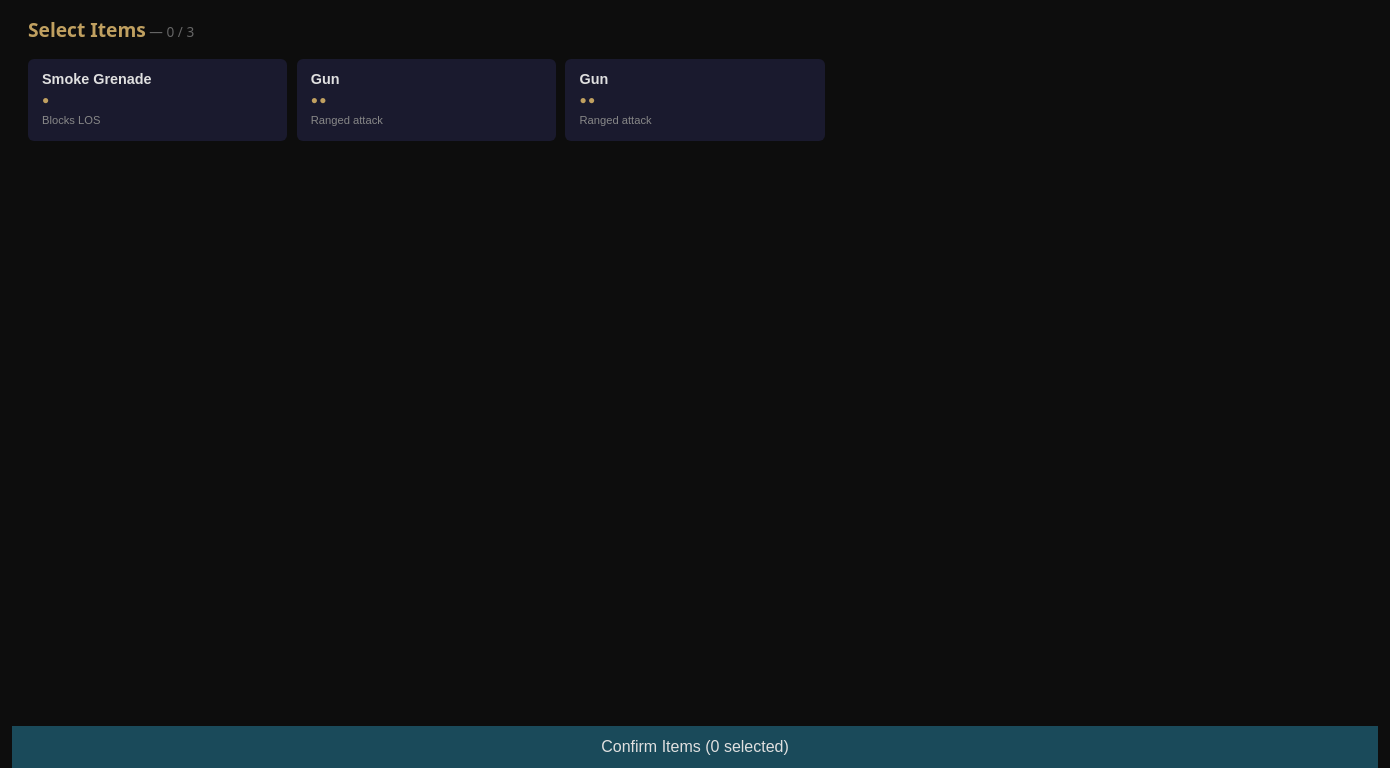
Test: SetupView › deselecting an item decrements the count
What coordinates should you click on to do the following:
click the button "Smoke Grenade ● Blocks LOS"
I would click on:
 (158, 100)
Its box is [28,59,287,141].
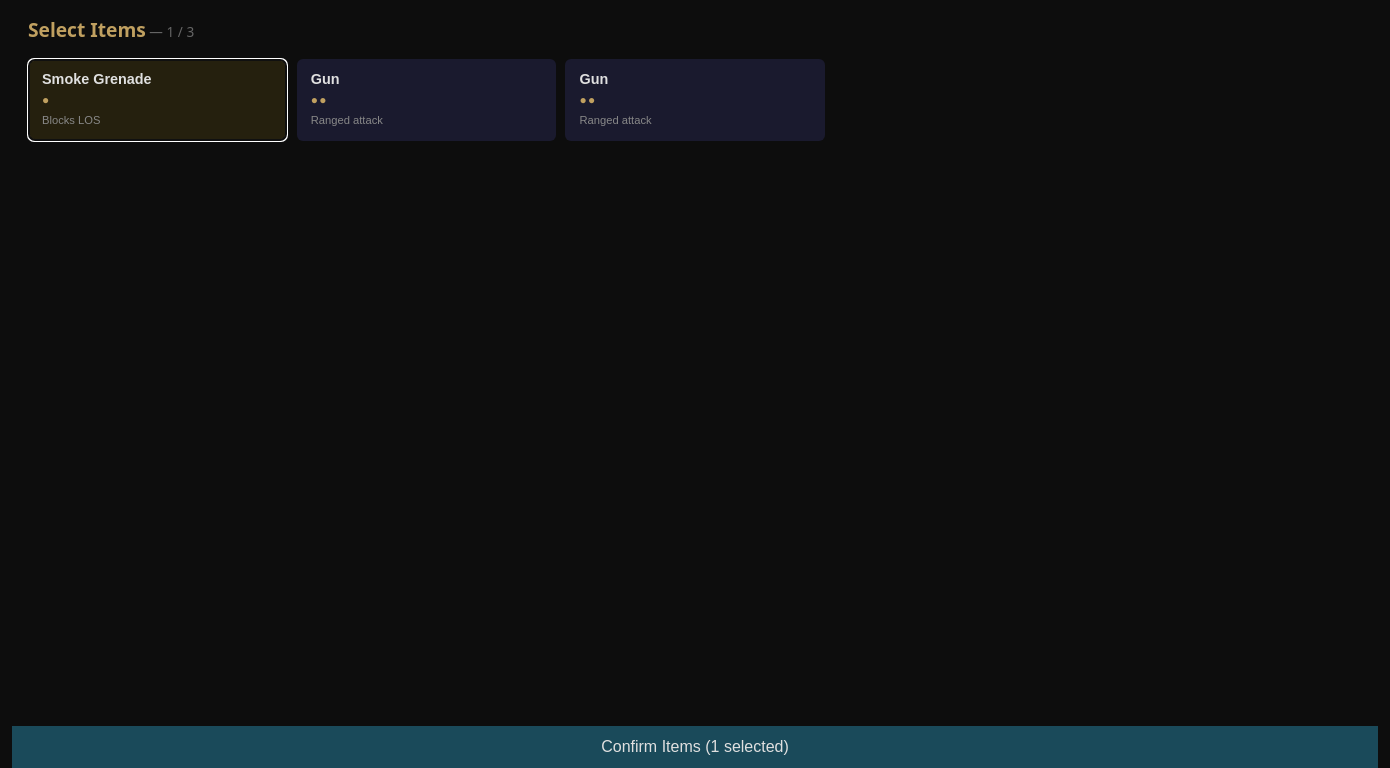
Result: the text "— 1 / 3" is shown at [146,22,194,41]
What coordinates should you click on to do the following:
click the button "Smoke Grenade ● Blocks LOS"
I would click on:
 (158, 100)
Its box is [28,59,287,141].
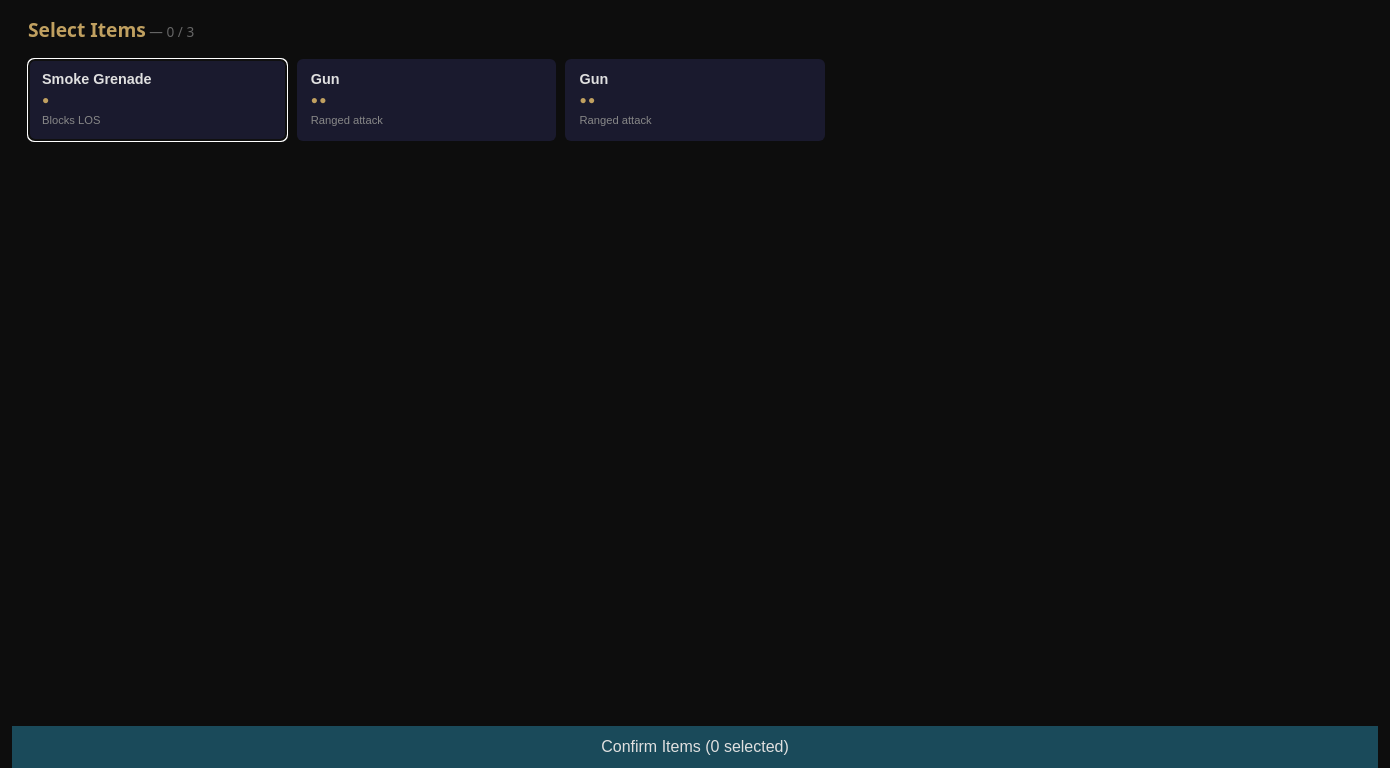
Result: the text "— 0 / 3" is shown at [146,22,194,41]
